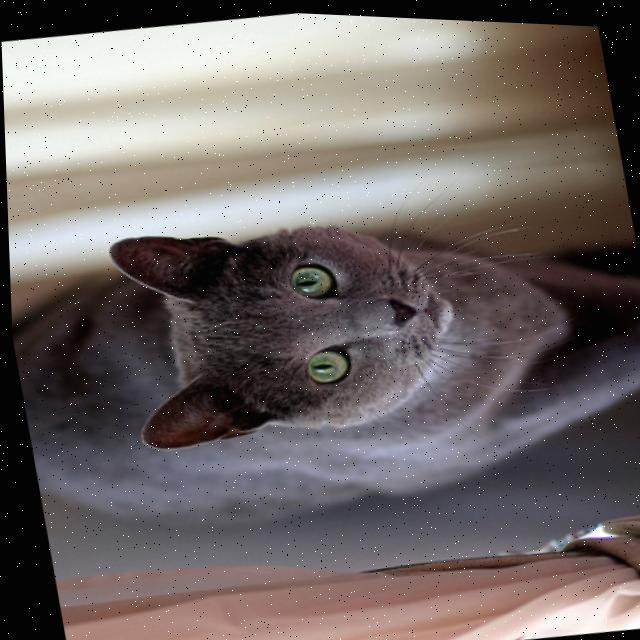Russian Blue: (5, 157, 640, 572)
